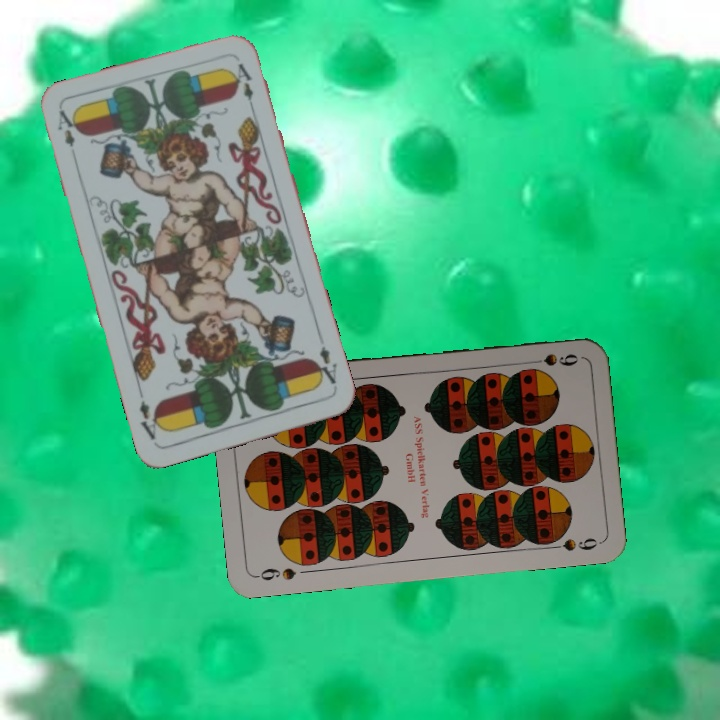EA: (310, 342, 340, 387), (53, 106, 80, 149)
S9: (523, 350, 581, 369), (252, 563, 298, 583)
